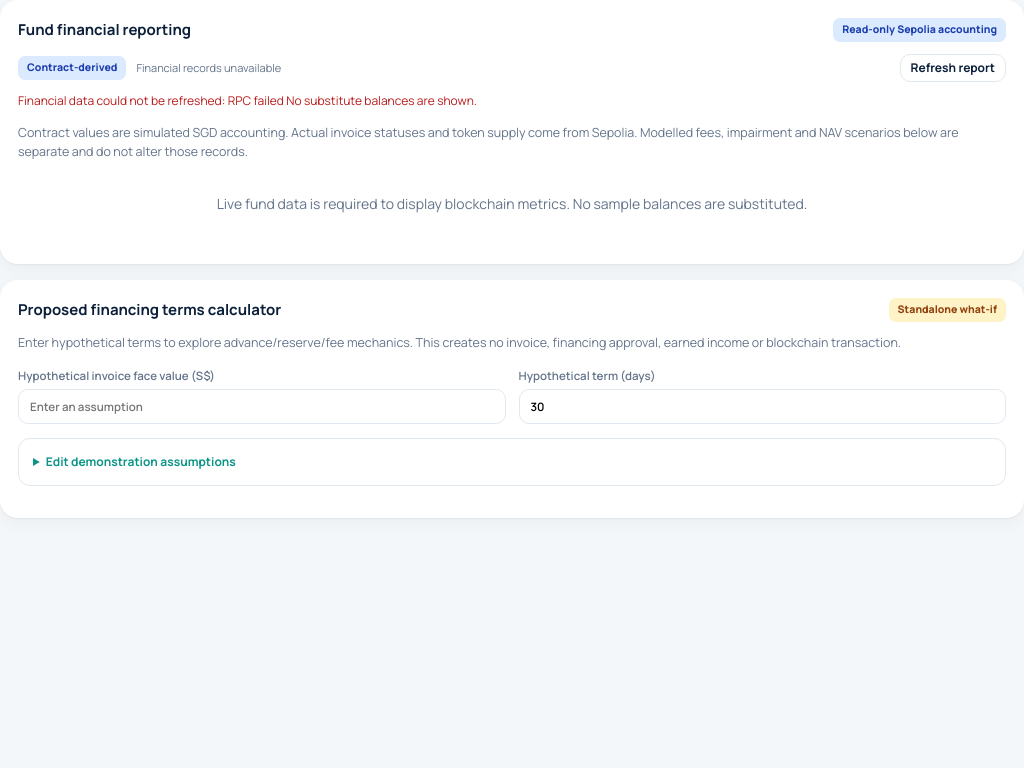
reporting access and scenario isolation › never substitutes a sample fund when RPC data is missing, but allows a labelled what-if
Check: the text "Live fund data is required" is shown, box [217,194,807,213]
Check: the text "S$1,000.00" is not shown
In the field labelled "Hypothetical invoice face value (S$)": [262, 407] box [18,389,506,424], type "1000"
(page scrolled)
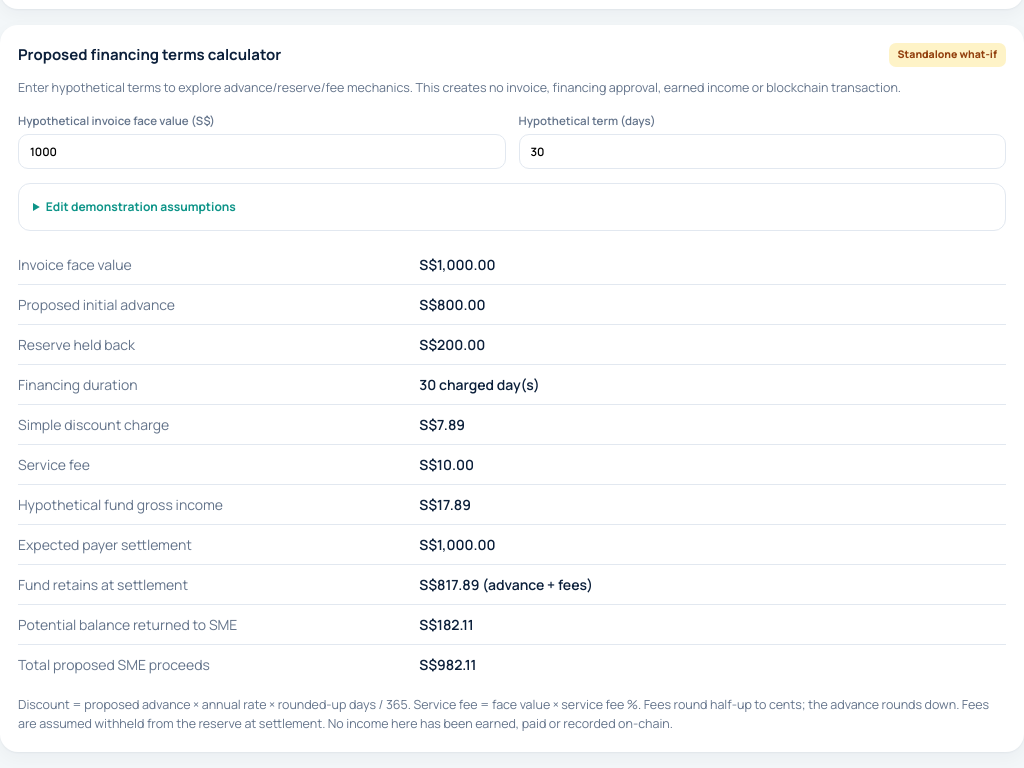
Check: the text "S$800.00" is shown, box [419,295,485,314]
Check: the text "S$17.89" is shown, box [419,495,471,514]
